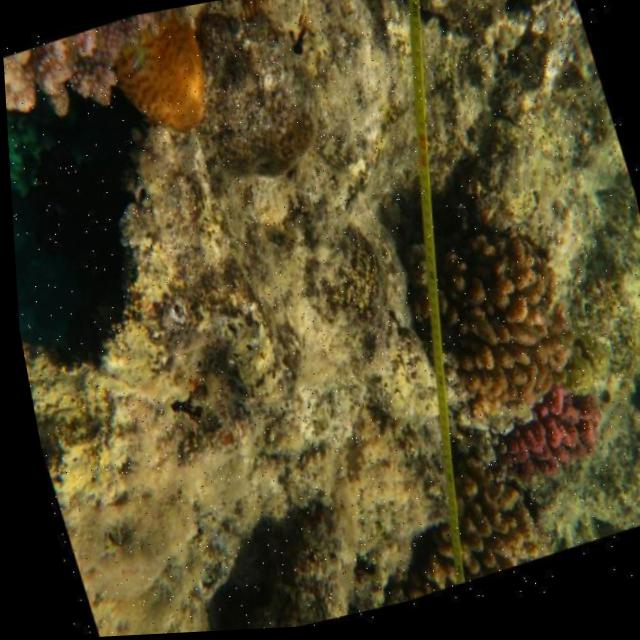Healthy Coral: (414, 201, 571, 425), (97, 2, 231, 155), (481, 388, 611, 513)
